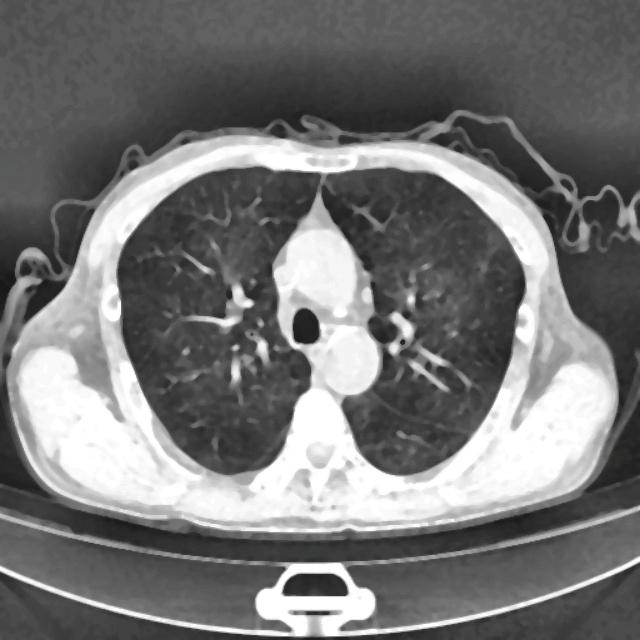covid: (2, 112, 626, 540)
